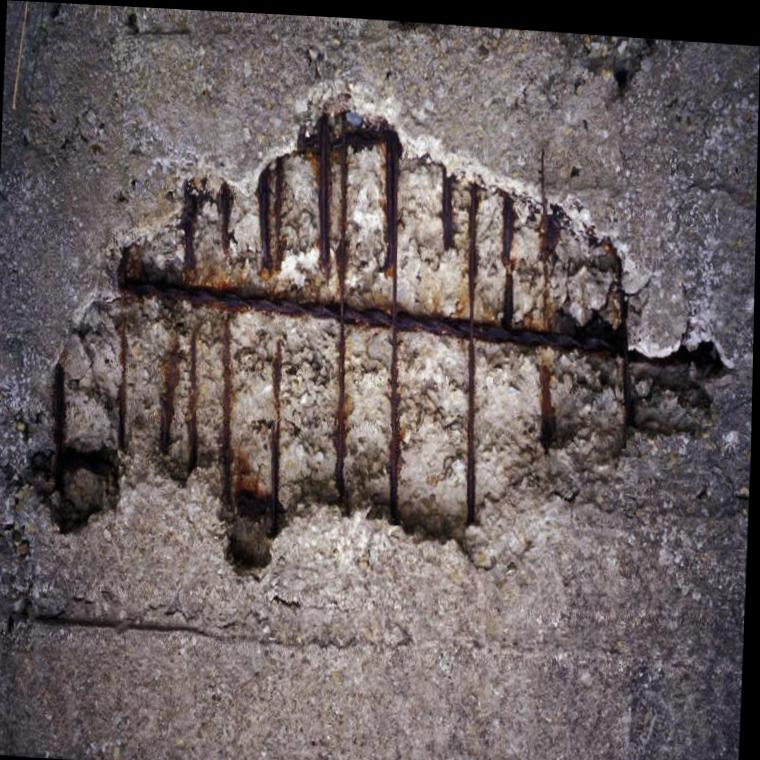damage: (23, 80, 755, 569)
